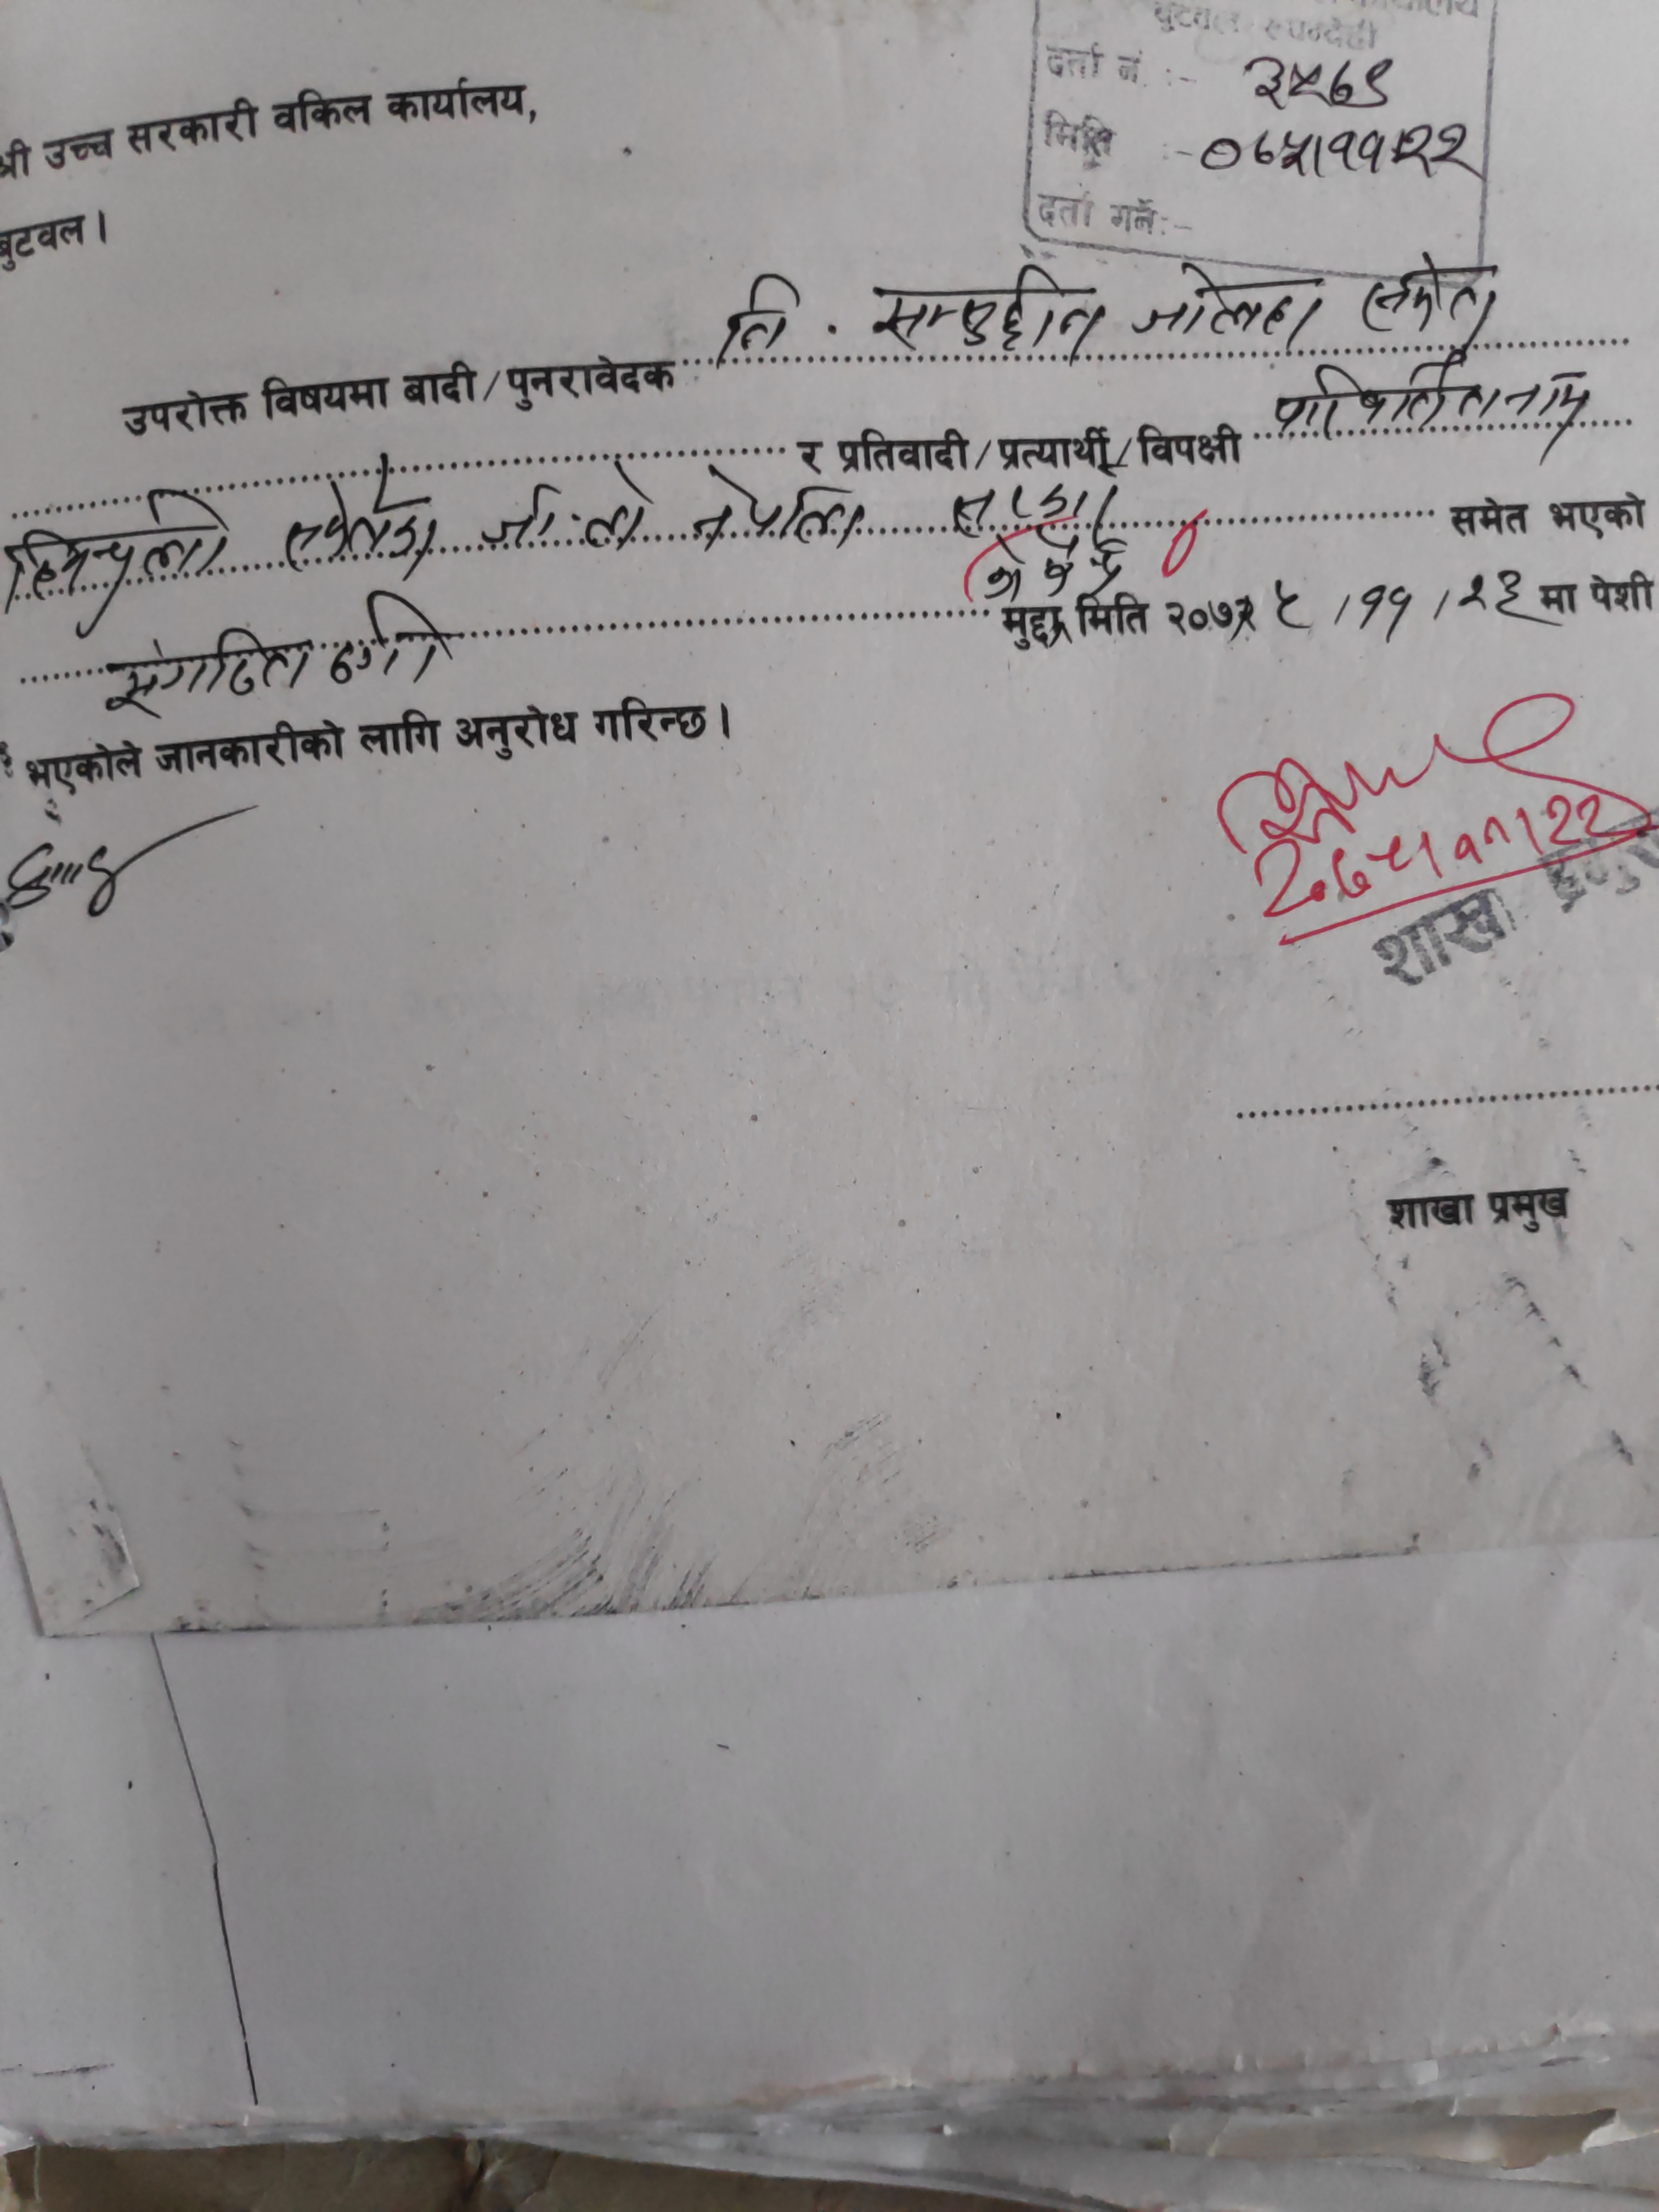text: (5, 484, 240, 641), (864, 261, 1105, 357), (277, 451, 444, 583), (1126, 260, 1330, 359), (1270, 350, 1502, 437), (94, 629, 312, 721), (481, 456, 653, 550), (1197, 124, 1483, 179), (687, 463, 864, 550), (326, 582, 457, 691), (1358, 251, 1499, 341), (1241, 52, 1405, 117), (945, 479, 1127, 535), (1499, 361, 1595, 456), (711, 272, 807, 366), (1452, 559, 1539, 639), (1352, 578, 1419, 651), (1269, 571, 1314, 644)
